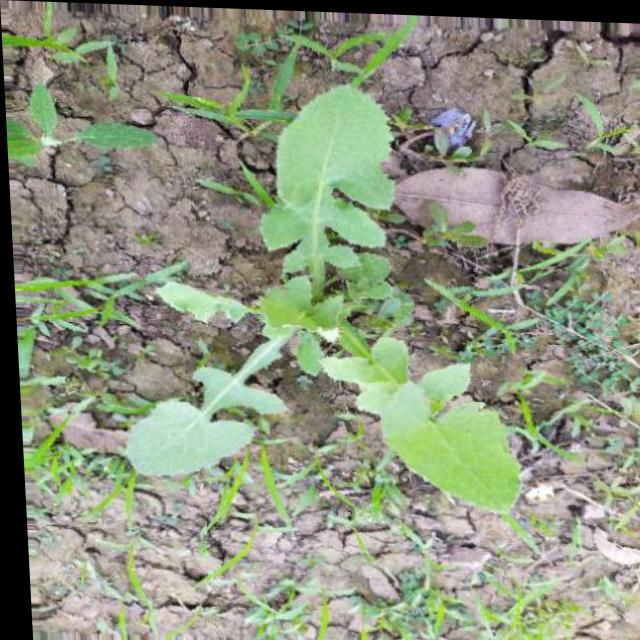weed: (97, 57, 599, 551)
